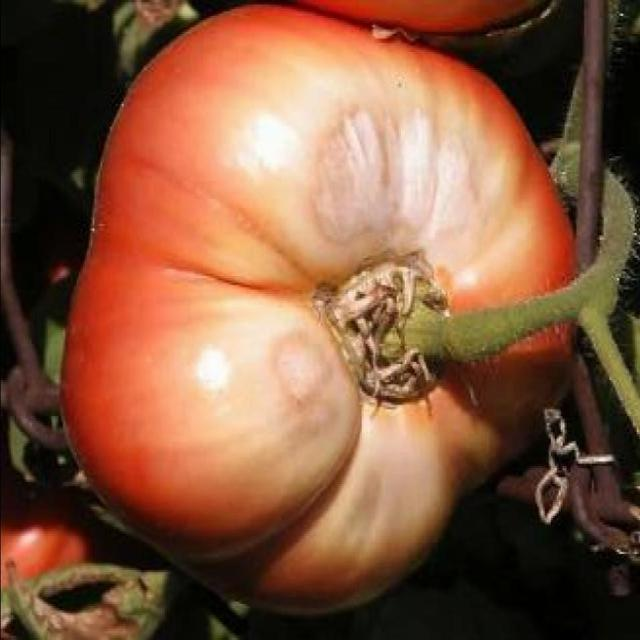Sunscald Fruit: (57, 81, 274, 325)
